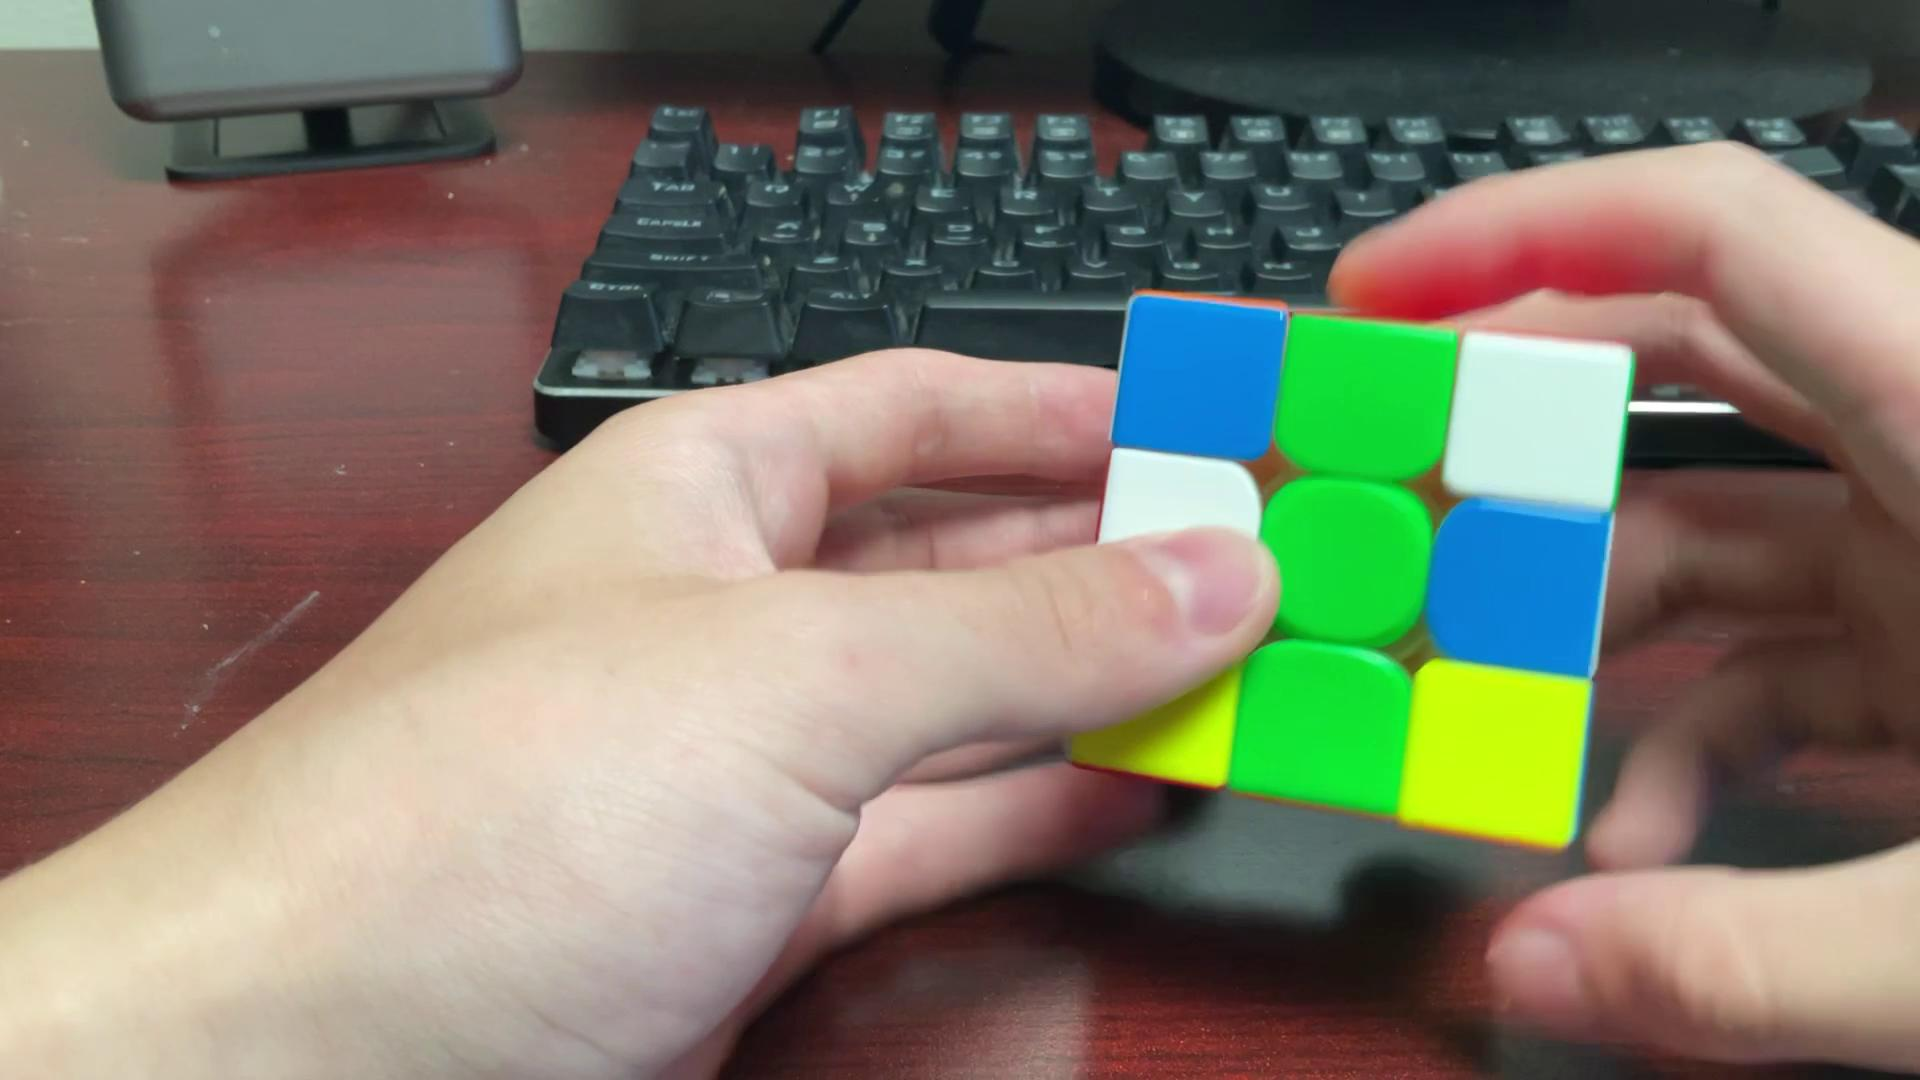Rubiks-Cube: (1064, 274, 1638, 858)
